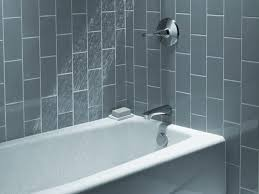bathub: (1, 106, 228, 194)
